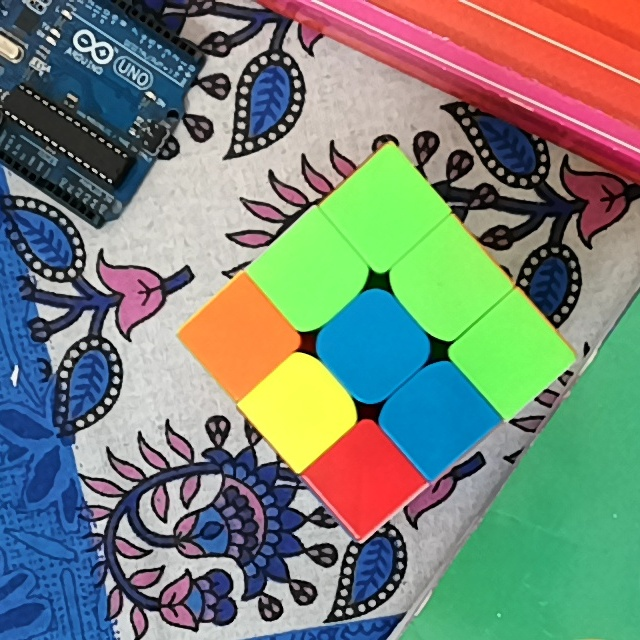tile: (274, 245, 342, 307), (338, 316, 406, 377), (478, 325, 544, 387), (402, 388, 470, 448), (350, 181, 415, 243), (414, 253, 479, 315), (207, 308, 272, 369), (331, 450, 395, 508), (274, 382, 334, 438)
